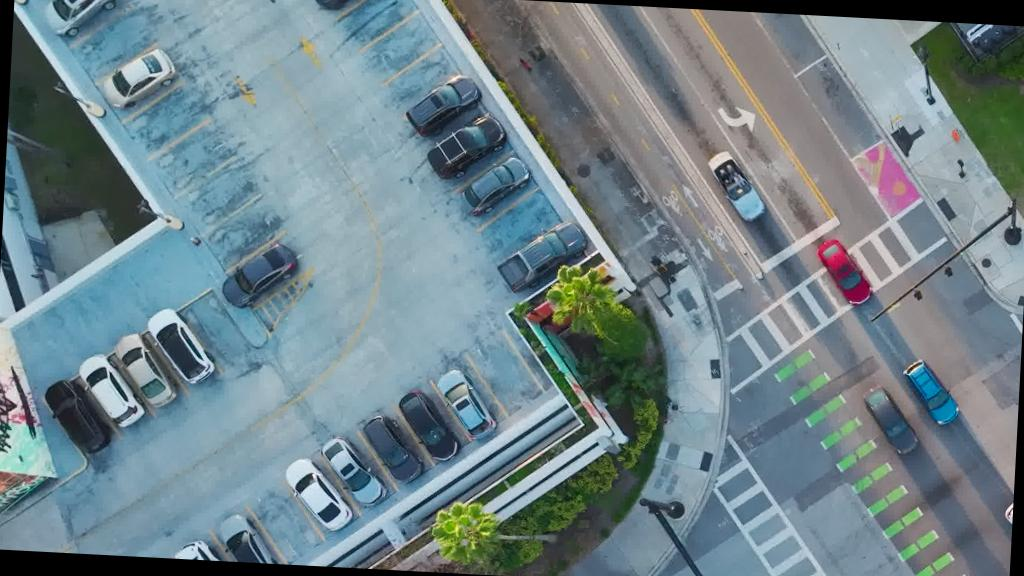cars: (494, 217, 589, 298), (145, 308, 220, 386), (426, 112, 507, 184), (222, 240, 298, 312), (42, 380, 114, 455), (404, 73, 483, 141), (76, 354, 148, 428), (284, 458, 356, 532), (111, 333, 181, 409), (101, 45, 178, 113), (319, 436, 389, 508), (456, 154, 531, 220), (396, 390, 463, 463), (434, 370, 500, 443), (704, 150, 768, 224), (360, 416, 426, 486), (860, 383, 922, 457), (900, 358, 962, 428), (816, 240, 874, 308), (216, 514, 284, 564), (42, 0, 117, 39), (176, 540, 248, 562), (308, 0, 365, 13), (1002, 499, 1014, 560)
